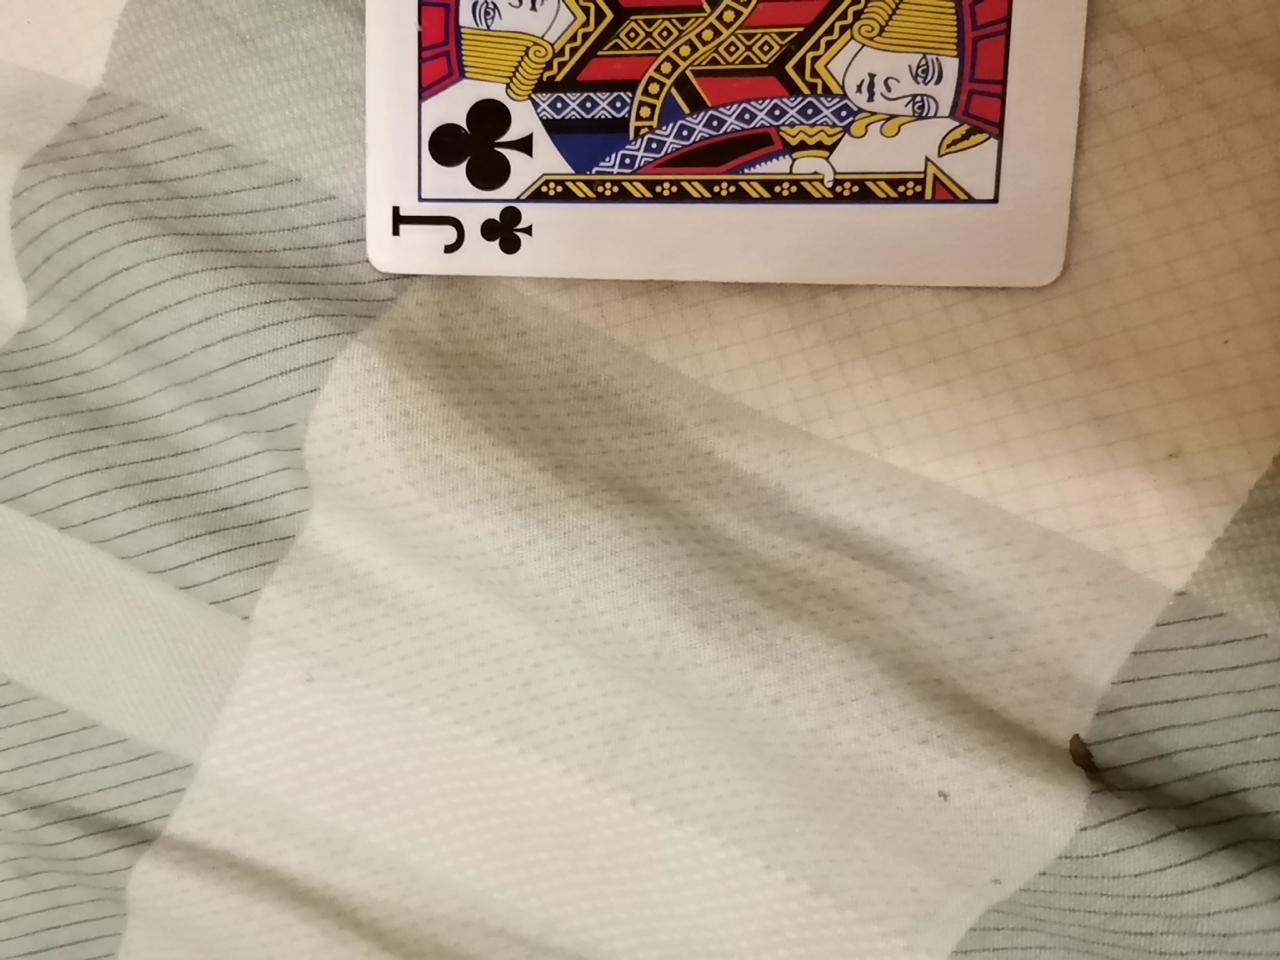mh j: (341, 0, 1085, 299)
